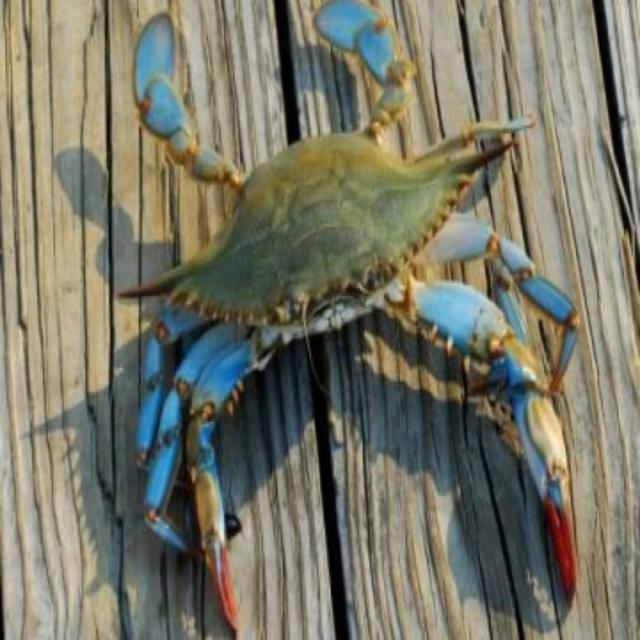crab: (122, 113, 495, 432)
